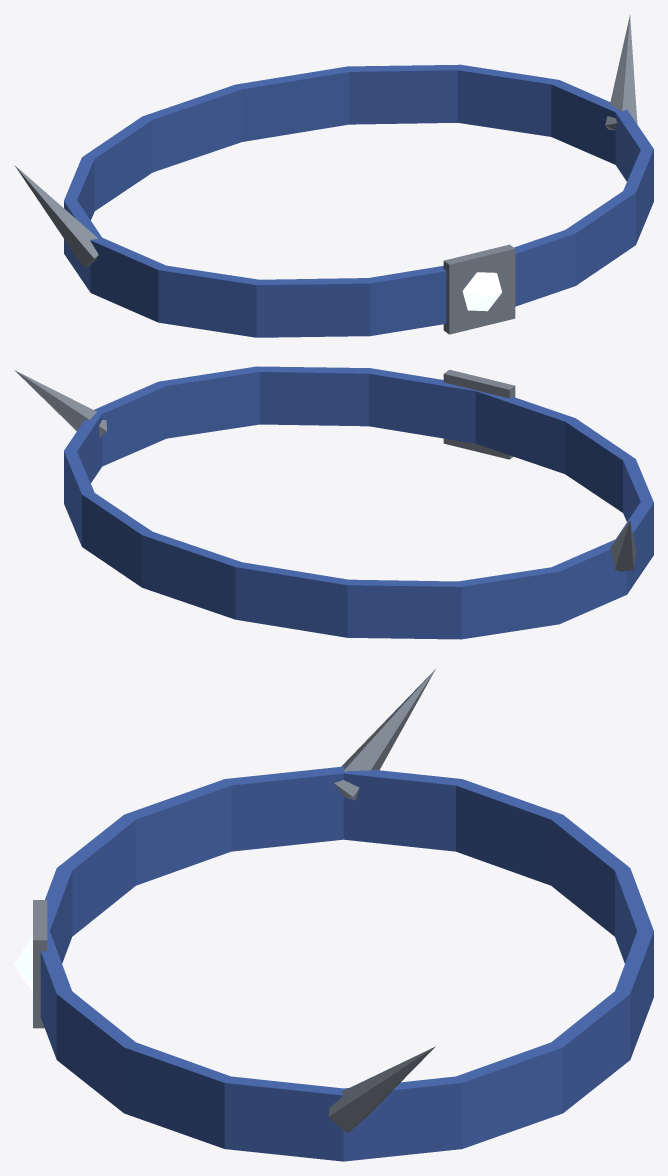
Rendered from armor_knight_head_rare_orc.glb.
The picture shows the model from 3 angles, top to bottom: view 1: azimuth 30°, elevation 25°; view 2: azimuth 150°, elevation 25°; view 3: azimuth 270°, elevation 25°; orthographic projection. The views are drawn at different scales.
Visible parts, largest first — view 1: armor_knight_head_rare_orc__head; view 2: armor_knight_head_rare_orc__head; view 3: armor_knight_head_rare_orc__head.
Part boxes in pixels (x1,y1,x2,y2): armor_knight_head_rare_orc__head: [14, 15, 653, 337]; armor_knight_head_rare_orc__head: [14, 366, 653, 639]; armor_knight_head_rare_orc__head: [14, 669, 653, 1161].
Bounding box in the file's own units: 74.77 × 13.9 × 53.52.
